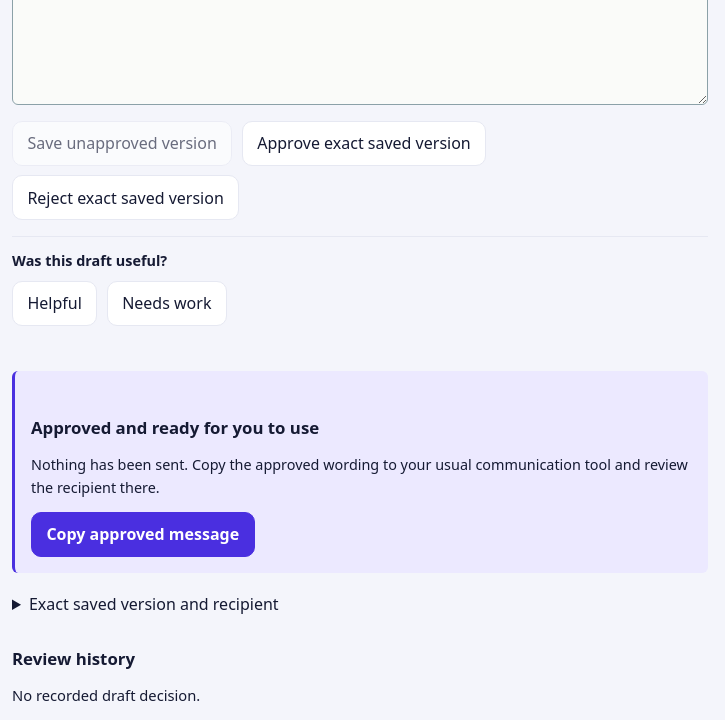
copies only the exact approved saved message and identifies the copied version
(page scrolled)
Click the button "Copy approved message" at (143, 534), box [31,512,255,557]
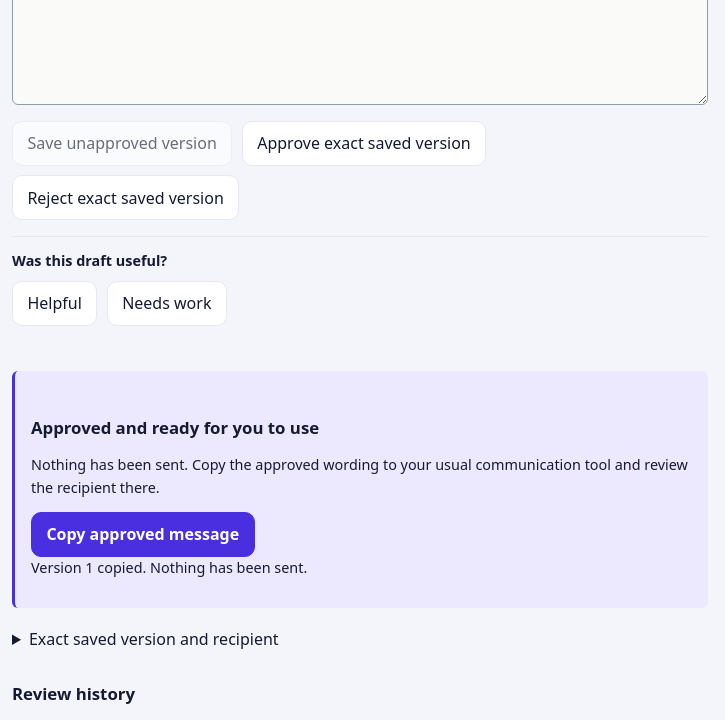
Now the text "Version 1 copied. Nothing has been sent." is shown, box [31,558,307,577]
